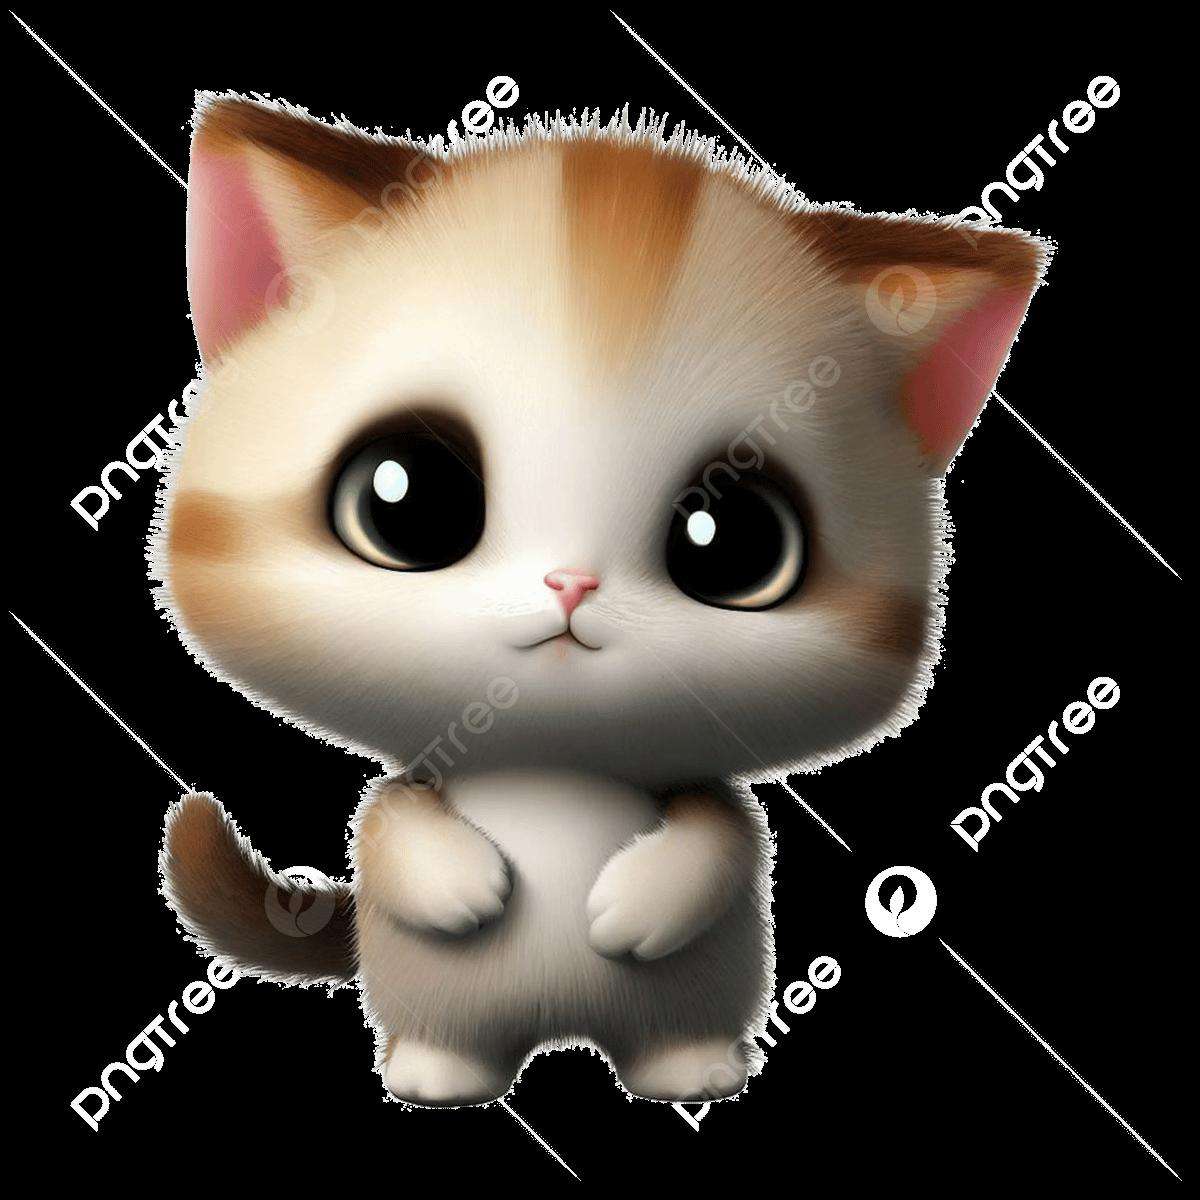cat: (149, 88, 1046, 1119)
